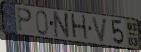0: (35, 9, 50, 37)
5: (111, 19, 125, 45)
H: (70, 13, 89, 43)
N: (53, 11, 72, 40)
P: (16, 7, 33, 34)
V: (91, 16, 109, 44)
